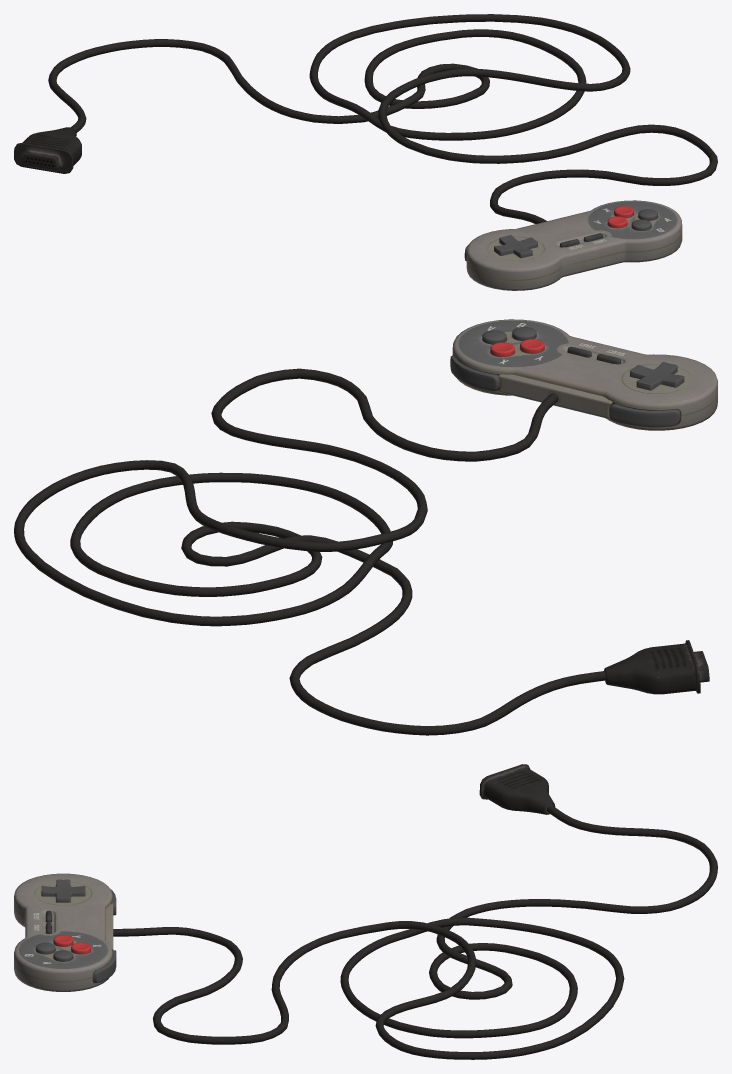
File: game_pad.glb
3 renders of one model, top to bottom at view 1: azimuth 30°, elevation 25°; view 2: azimuth 150°, elevation 25°; view 3: azimuth 270°, elevation 25°, orthographic. The views are drawn at different scales.
Parts seen in each view (by area): view 1: gamepad; view 2: gamepad; view 3: gamepad.
Boxes of the visible parts, x1,y1,x2,y2 form: gamepad: [14, 14, 717, 290]; gamepad: [14, 319, 717, 735]; gamepad: [14, 764, 717, 1059].
Size of the model in its own units: 0.4041 by 0.0189 by 0.435.
Materials: 1 (1 with a texture image).
